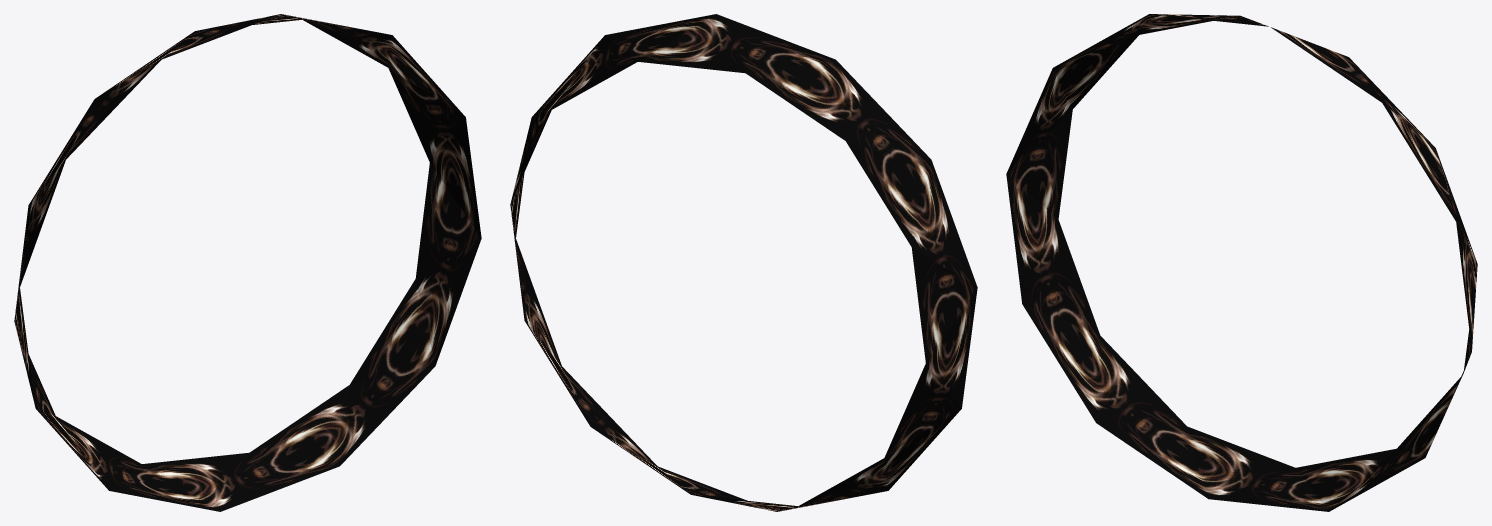
The model's file is tx_priest_linghunzengyi_keep.obj.
3 renders of one model, left to right at view 1: azimuth 30°, elevation 25°; view 2: azimuth 150°, elevation 25°; view 3: azimuth 330°, elevation 25°, orthographic.
Parts seen in each view (by area): view 1: Cylinder02; view 2: Cylinder02; view 3: Cylinder02.
Boxes of the visible parts, x1,y1,x2,y2 form: Cylinder02: (14, 14, 481, 511); Cylinder02: (510, 14, 977, 511); Cylinder02: (1006, 14, 1477, 511).
Bounding box in the file's own units: 122 × 122 × 13.11.
Materials: 2 (2 with a texture image).
